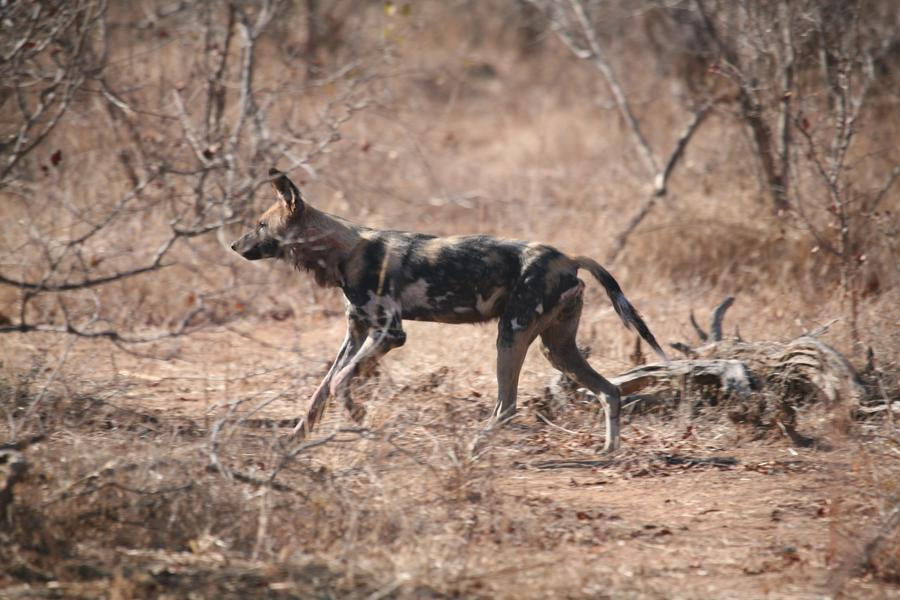wilddog: (230, 176, 606, 397)
